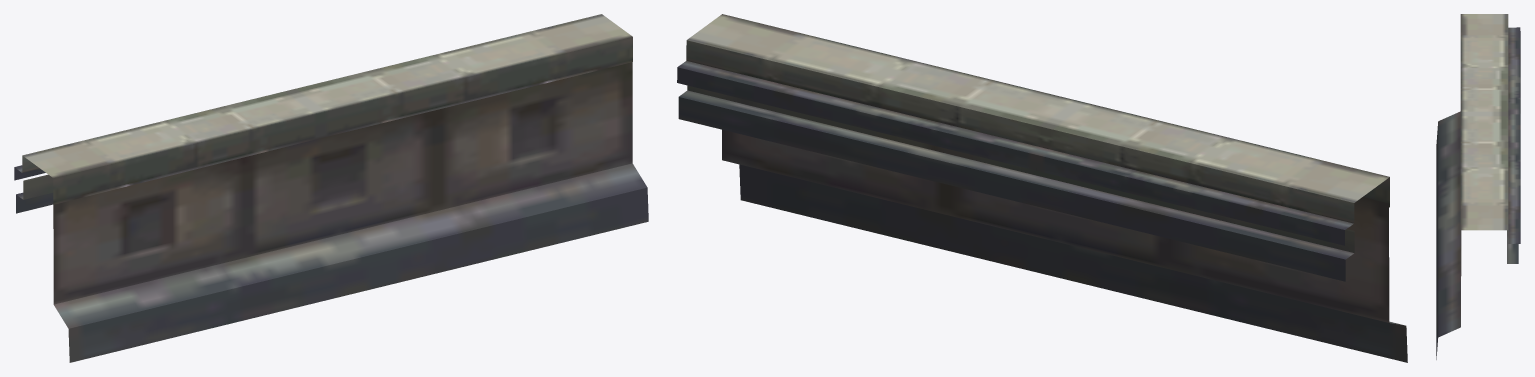
The model's file is S_Build_City146.FBX.
3 views of the same model, side by side, from view 1: azimuth 30°, elevation 25°; view 2: azimuth 150°, elevation 25°; view 3: azimuth 270°, elevation 25° (orthographic). The views are drawn at different scales.
Visible parts, largest first — view 1: S_Build_City146; view 2: S_Build_City146; view 3: S_Build_City146.
Part boxes in pixels (x1=…): S_Build_City146: x1=14, y1=14, x2=648, y2=362; S_Build_City146: x1=677, y1=14, x2=1407, y2=362; S_Build_City146: x1=1436, y1=14, x2=1520, y2=359.
Bounding box in the file's own units: 2152 × 615 × 355.
